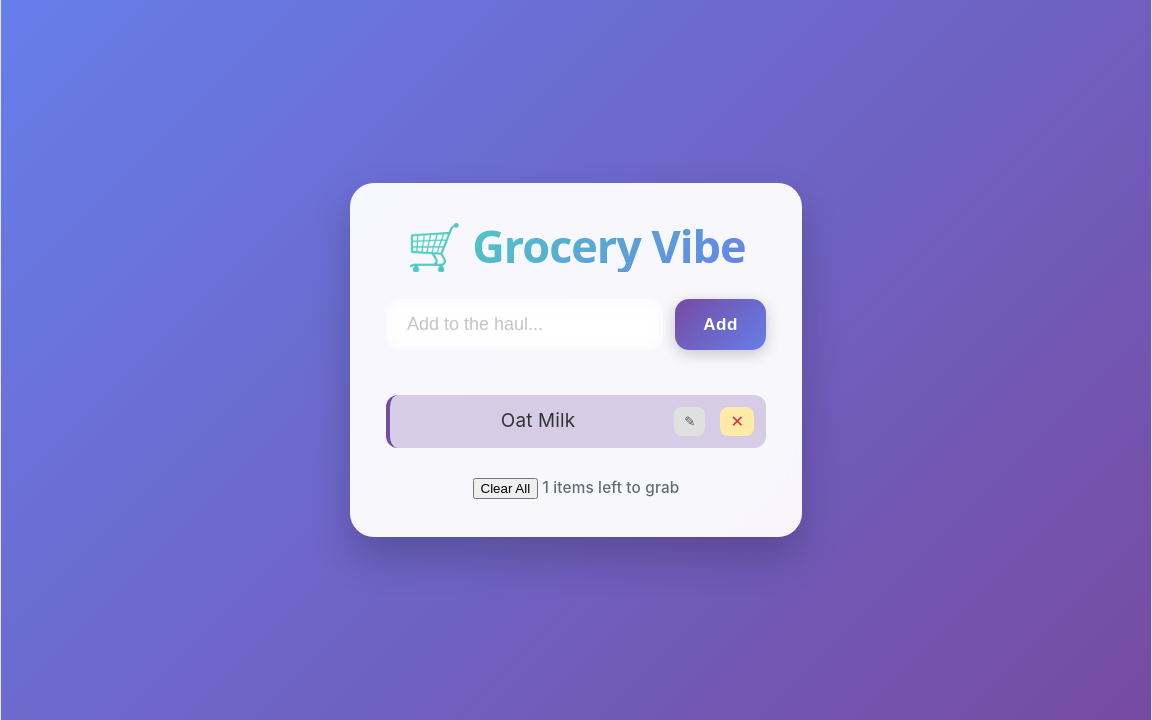
Test: allows users to delete a grocery item
Type "Bread" into the field with placeholder "Add to the haul..." at x=525, y=324, box [386,299,663,350]
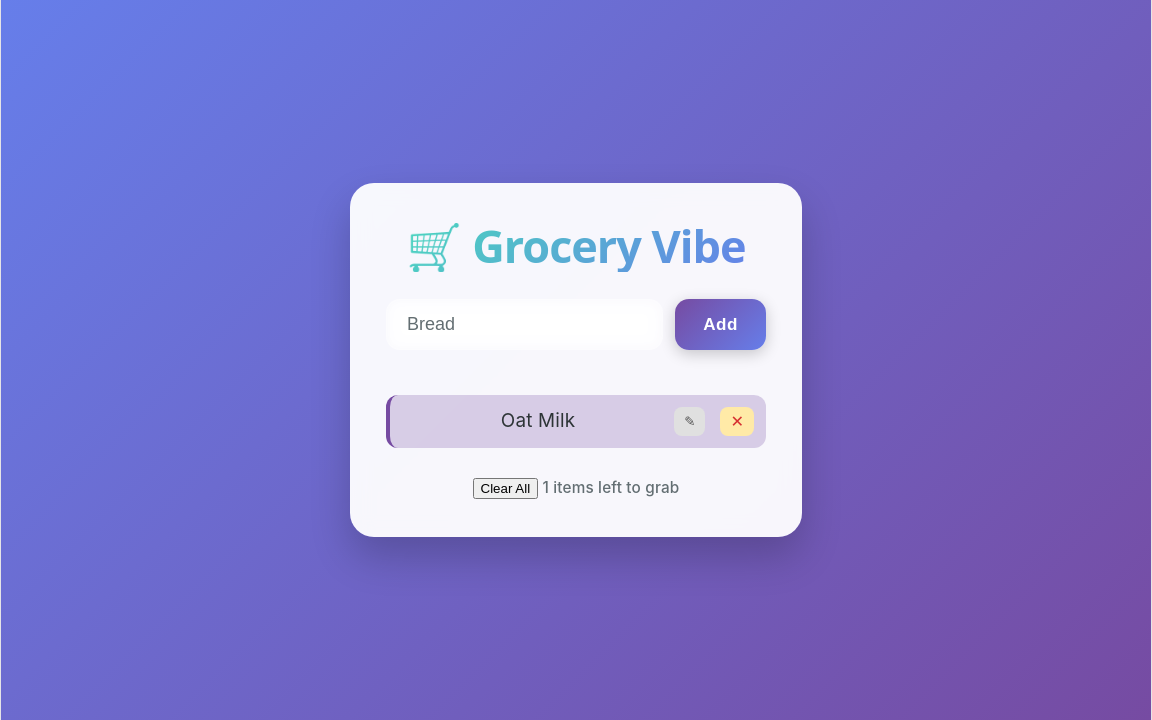
Click the button "Add" at x=721, y=324, box [675,299,766,350]
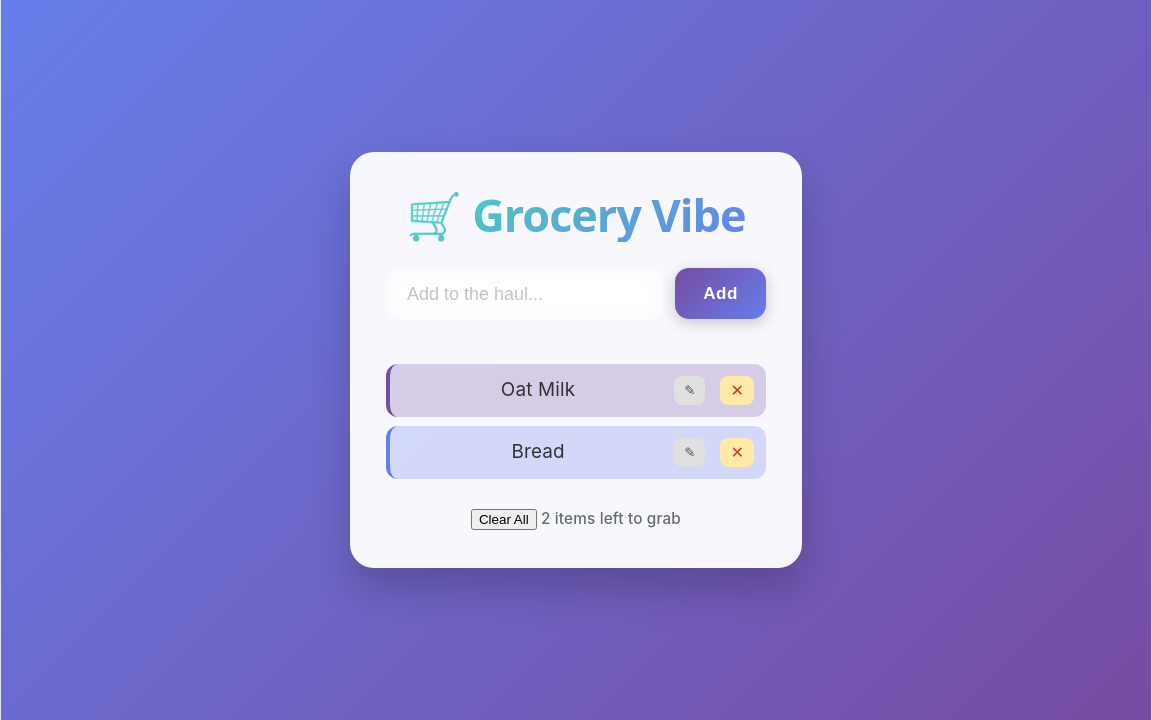
Click the button "✕" next to "Bread" at x=737, y=452, box [720,438,754,466]
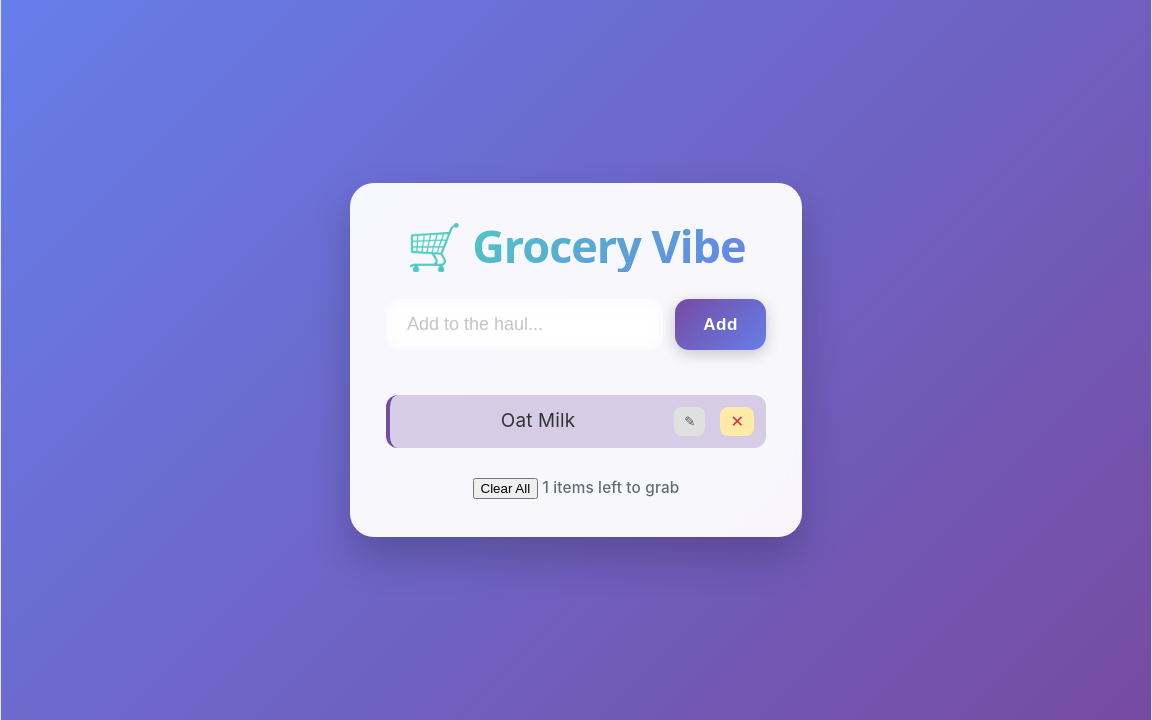
Expected: the text "Bread" is gone
